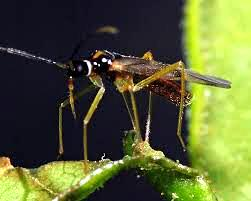Helopeltis-insect: (62, 43, 197, 115)
